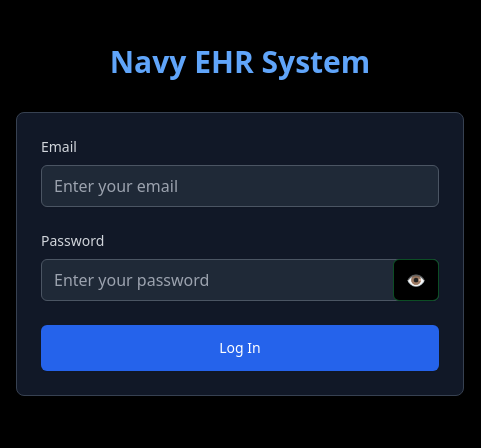
Login.vue › shows user-friendly error on invalid JSON response
Type "fail@example.com" into the field with id "email".
click(240, 186); type("fail@example.com")  # box [41,165,439,207]
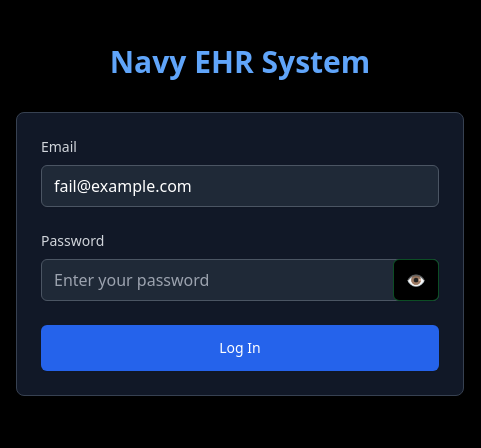
Type "wrong" into the password field labelled "Password".
click(240, 280); type("wrong")  # box [41,259,439,301]
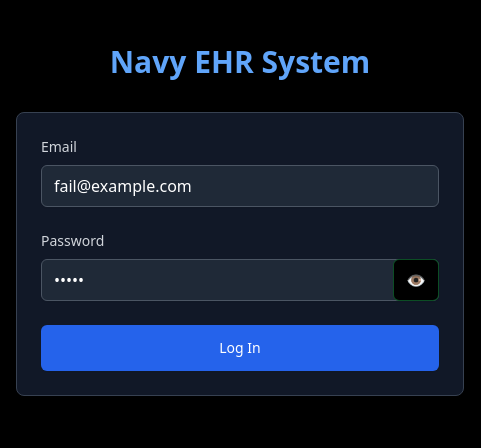
Submit the form, box [41,137,439,371]
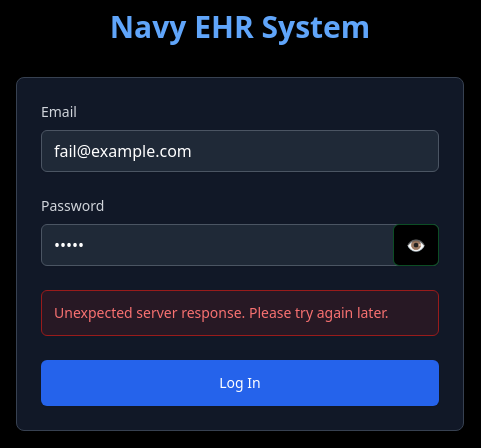
Now the text "Unexpected server response. Please try again later." is shown, box [41,290,439,336]
